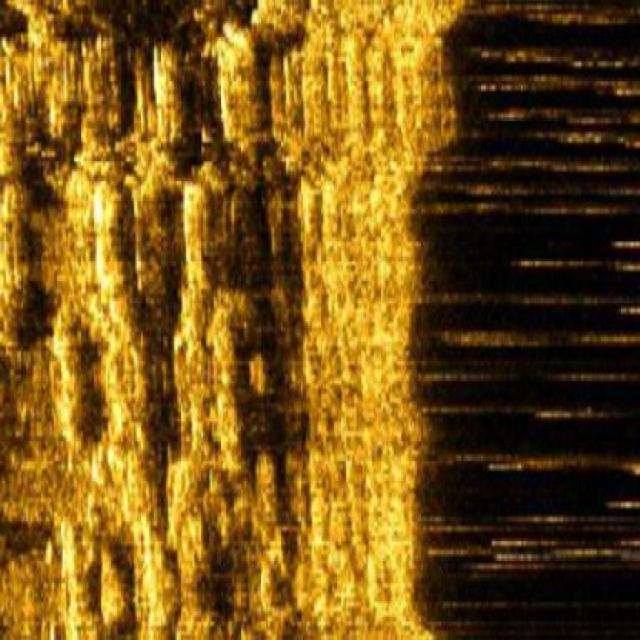bedrock group: (0, 0, 471, 638)
